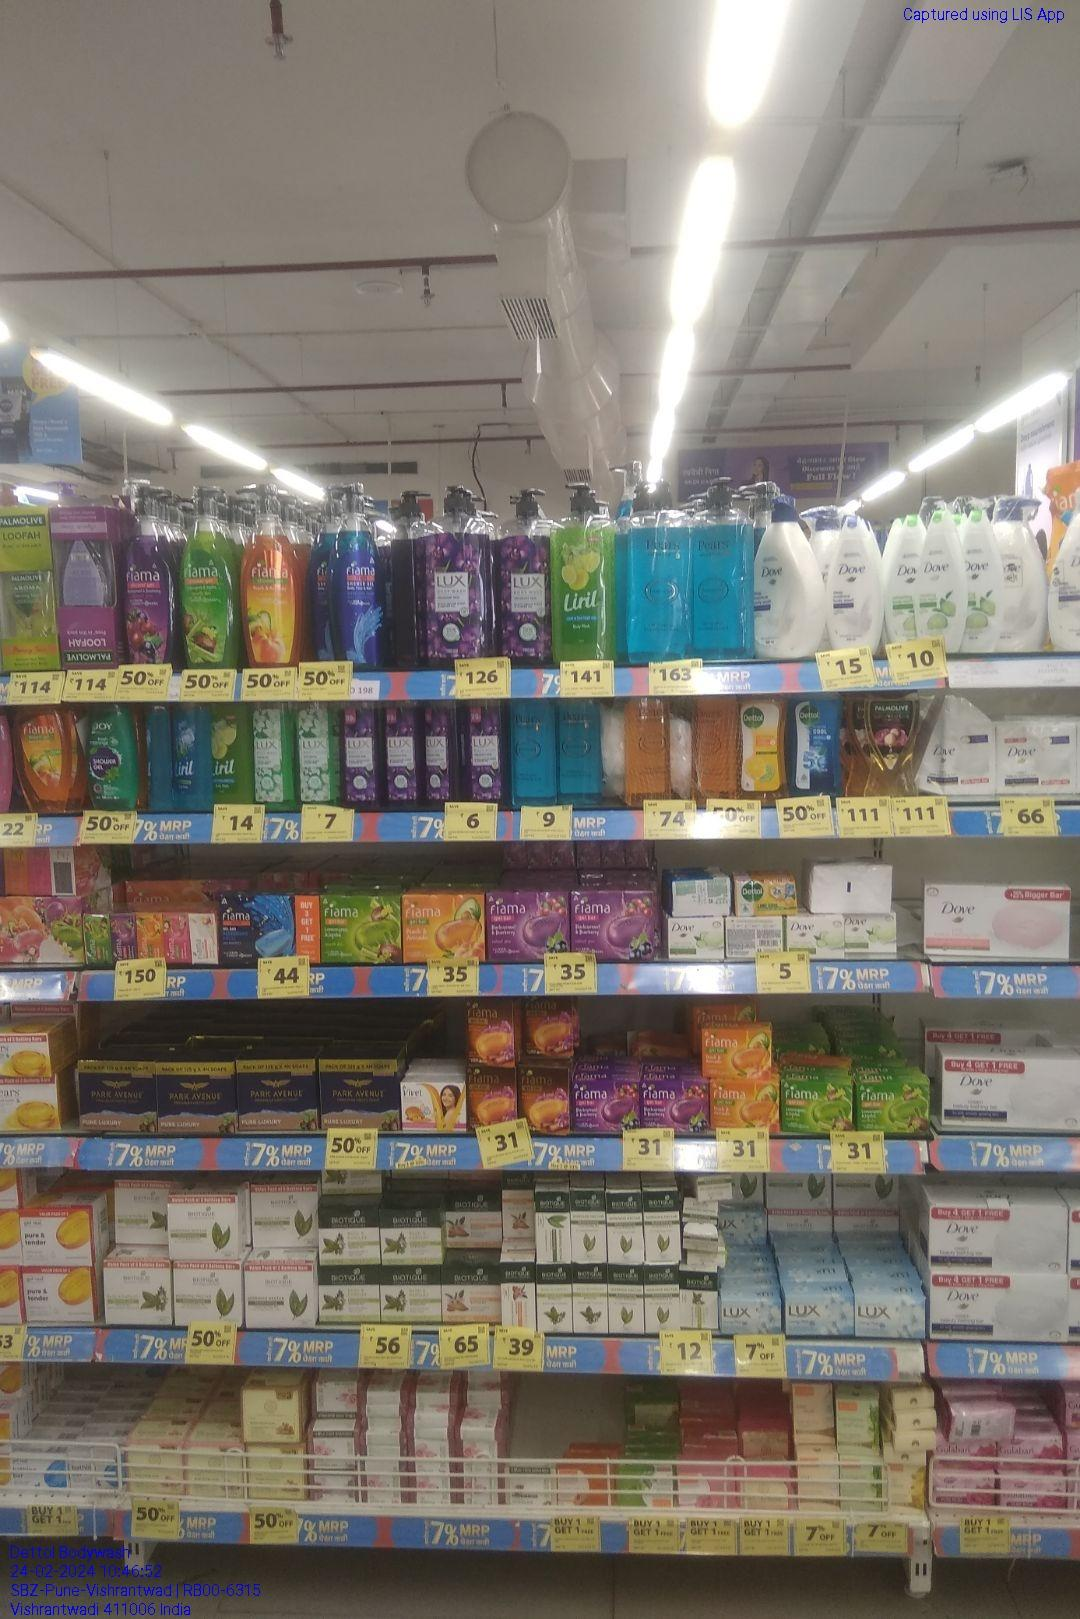Dettol_Bodywash_Cool: (792, 691, 843, 799)
Dettol_Bodywash_Refresh: (741, 694, 788, 806)
Dove_Deep_Moisture_Body_Wash_250ML: (823, 516, 882, 659)
Dove_Refreshing_Body_Wash_250ML: (915, 510, 967, 650)
Fiama_Shower_Gel_Peach_and_Avocado_250ML: (14, 705, 75, 813)
Joy_Shower_Gel_Mint_and_Eucalyptus_250ML: (83, 708, 139, 811)
Lux_Black_Orchid_Scent_and_Juniper_Oil_Body_Wash_245ML: (340, 698, 380, 811), (464, 702, 505, 809), (382, 697, 418, 811), (422, 698, 457, 811)
Lux_Body_Wash_Skin_Detox_Freesia_Scent_and_Alove_Vera_245ML: (252, 704, 295, 809), (297, 703, 340, 808)
Palmolive_Luminous_Oils_Invigorating_Macadamia_Oil_With_Peony_250ML: (859, 690, 921, 798)
Pears_Pure_Glycerin_and_Mint_Extracts_Body_Wash_250ML: (509, 697, 560, 809), (560, 697, 599, 806)
